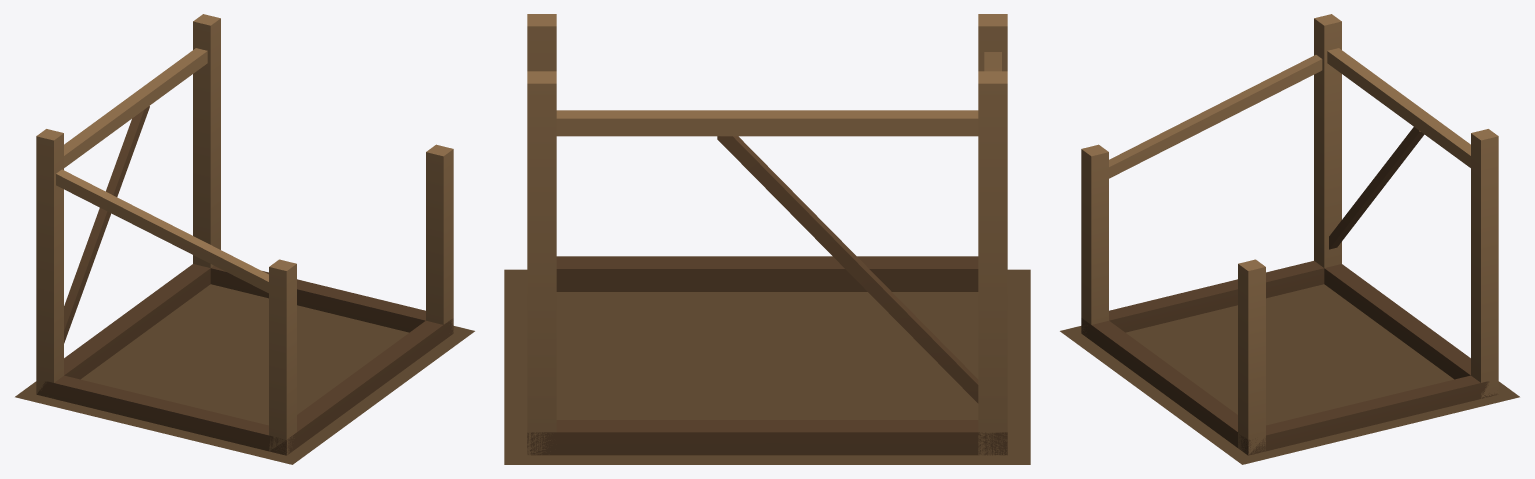
File: site_small.glb
3 views of the same model, side by side, from view 1: azimuth 30°, elevation 25°; view 2: azimuth 150°, elevation 25°; view 3: azimuth 270°, elevation 25° (orthographic). The views are drawn at different scales.
Parts seen in each view (by area): view 1: site_small; view 2: site_small; view 3: site_small.
Part boxes in pixels (x1=…): site_small: x1=15, y1=14, x2=474, y2=464; site_small: x1=504, y1=14, x2=1030, y2=464; site_small: x1=1060, y1=14, x2=1519, y2=464.
Bounding box in the file's own units: 0.7033 × 0.42 × 0.6791.
